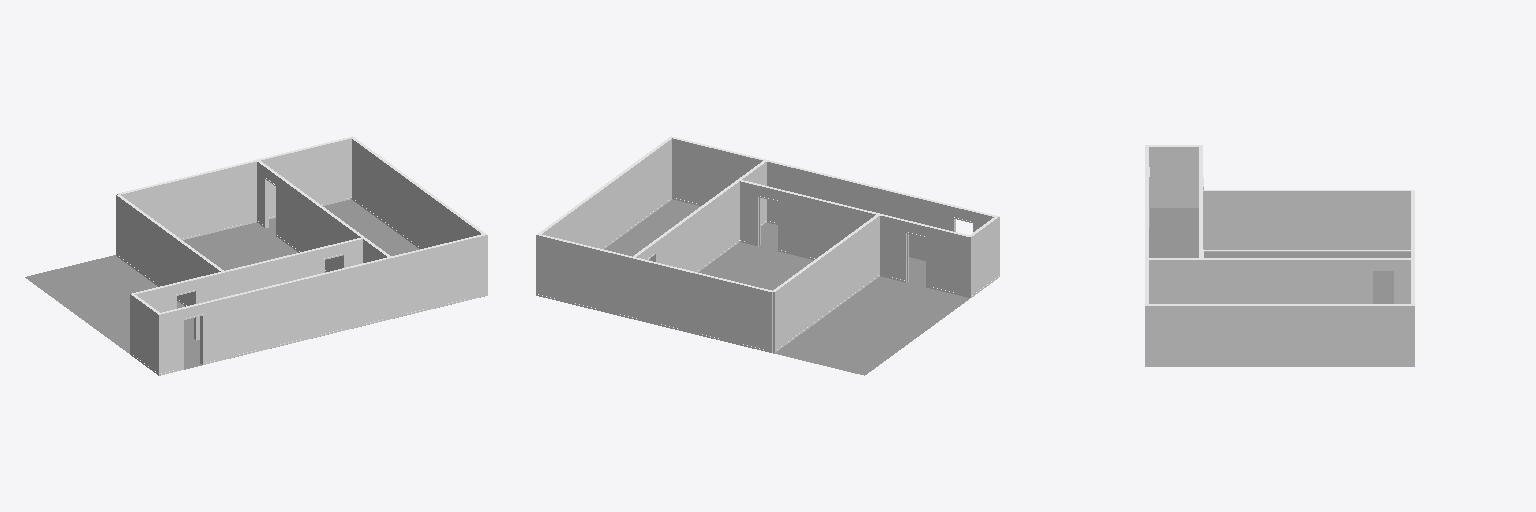
File: cuisine.obj
3 views of the same model, side by side, from view 1: azimuth 30°, elevation 25°; view 2: azimuth 150°, elevation 25°; view 3: azimuth 270°, elevation 25° (orthographic).
Parts seen in each view (by area): view 1: wall_1_7, ground_1, wall_6_47, wall_7_55, wall_8_62, wall_3_22, wall_5_38, wall_9_70, wall_4_31; view 2: ground_1, wall_6_46, wall_3_23, wall_5_38, wall_7_55, wall_1_6, wall_9_70, wall_8_63, wall_4_31; view 3: wall_7_54, wall_5_39, wall_9_71, ground_1, wall_4_30, wall_2_15, wall_7_52.
Boxes of the visible parts, box(x1,y1,x2,y2) form: wall_1_7: box(159, 258, 392, 373); ground_1: box(25, 199, 484, 375); wall_6_47: box(121, 138, 351, 238); wall_7_55: box(352, 139, 480, 248); wall_8_62: box(393, 235, 487, 316); wall_3_22: box(135, 239, 362, 337); wall_5_38: box(116, 195, 220, 305); wall_9_70: box(257, 162, 360, 271); wall_4_31: box(130, 294, 158, 373); ground_1: box(604, 199, 969, 375); wall_6_46: box(536, 235, 772, 352); wall_3_23: box(740, 181, 970, 296); wall_5_38: box(773, 216, 879, 352); wall_7_55: box(542, 139, 671, 248); wall_1_6: box(767, 162, 993, 258); wall_9_70: box(636, 181, 739, 271); wall_8_63: box(672, 138, 762, 204); wall_4_31: box(971, 217, 999, 295); wall_7_54: box(1145, 306, 1414, 364); wall_5_39: box(1203, 191, 1410, 249); wall_9_71: box(1201, 260, 1410, 303); ground_1: box(1149, 208, 1410, 303); wall_4_30: box(1149, 147, 1198, 205); wall_2_15: box(1149, 260, 1202, 303); wall_7_52: box(1145, 365, 1414, 366).
Bounding box in the file's own units: 1417 × 250 × 1008.